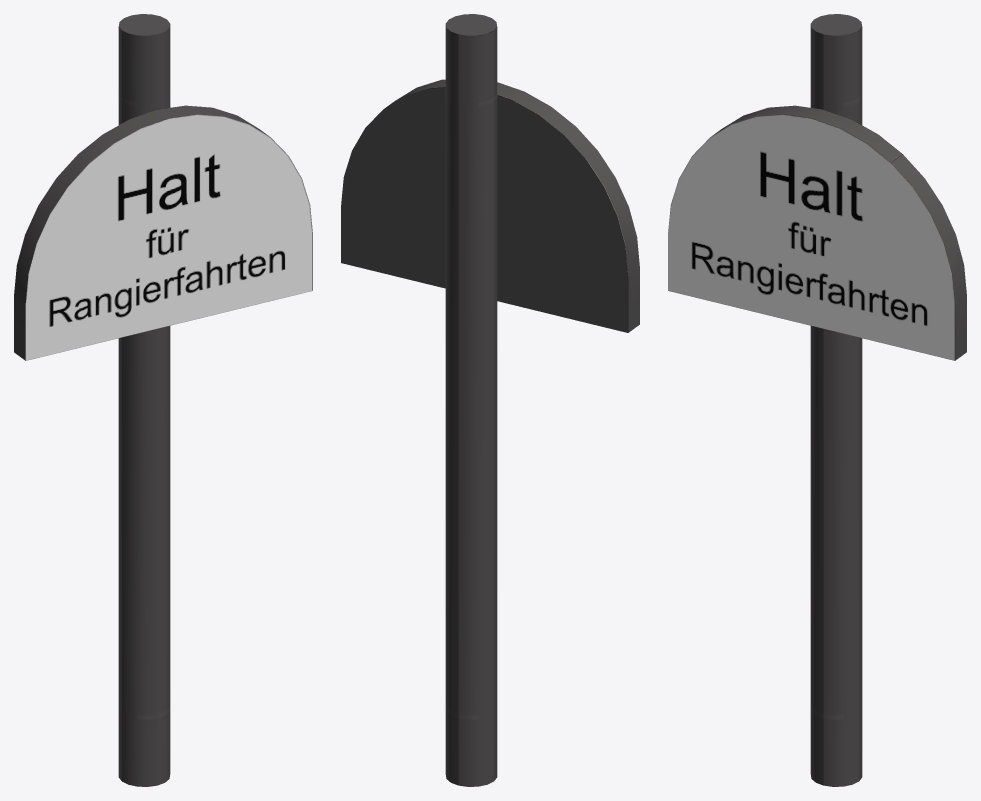
Rendered from signalra10b.obj.
3 renders of one model, left to right at view 1: azimuth 30°, elevation 25°; view 2: azimuth 150°, elevation 25°; view 3: azimuth 330°, elevation 25°, orthographic.
Visible parts, largest first — view 1: Cylinder.001, Cube_Cube.003; view 2: Cylinder.001, Cube_Cube.003; view 3: Cylinder.001, Cube_Cube.003.
Part boxes in pixels (x1,y1,x2,y2): Cylinder.001: [14, 105, 312, 360]; Cube_Cube.003: [118, 14, 170, 786]; Cylinder.001: [341, 79, 639, 332]; Cube_Cube.003: [445, 14, 497, 786]; Cylinder.001: [668, 105, 966, 360]; Cube_Cube.003: [810, 14, 862, 786].
Size of the model in its own units: 0.4 by 1 by 0.0912.
1 material, 1 textured.
